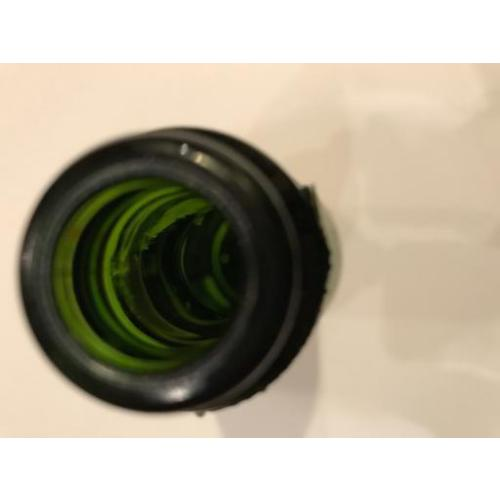glass: (19, 129, 323, 414)
